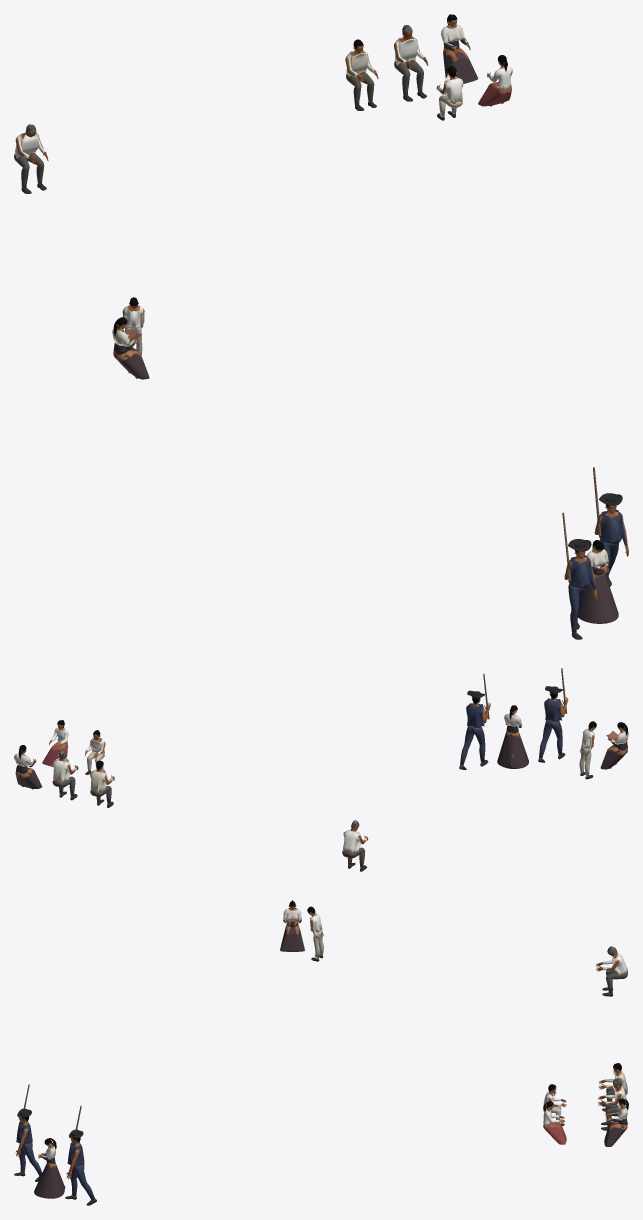
File: rizal-figures.glb
The picture shows the model from 3 angles, top to bottom: view 1: azimuth 30°, elevation 25°; view 2: azimuth 150°, elevation 25°; view 3: azimuth 270°, elevation 25°; orthographic projection. The views are drawn at different scales.
Visible parts, largest first — view 1: FIG_Guard_1, FIG_Teodora_Gate, FIG_Guard_2, FIG_Teodora_Dine, FIG_Francisco_Dine, FIG_Francisco_Desk, FIG_Teodora_Lamp, FIG_Paciano_Dine, FIG_Sister_Dine, FIG_Jose_Dine; view 2: FIG_Guard_2, FIG_Guard_1, FIG_Teodora_Gate, FIG_Francisco_Dine, FIG_Francisco_Desk, FIG_Teodora_Lamp, FIG_Teodora_Dine, FIG_Paciano_Dine, FIG_Jose_Lamp, FIG_Sister_Dine, FIG_Jose_Dine; view 3: FIG_Guard_2, FIG_Teodora_Gate, FIG_Guard_1, FIG_Teodora_Lamp, FIG_Francisco_Desk, FIG_Teodora_Dine, FIG_Sister_Dine, FIG_Francisco_Dine, FIG_Jose_Lamp, FIG_Paciano_Dine.
Part boxes in pixels (x1=…): FIG_Guard_1: x1=562, y1=512, x2=597, y2=639; FIG_Teodora_Gate: x1=578, y1=540, x2=618, y2=623; FIG_Guard_2: x1=593, y1=467, x2=628, y2=595; FIG_Teodora_Dine: x1=441, y1=14, x2=478, y2=83; FIG_Francisco_Dine: x1=394, y1=25, x2=428, y2=101; FIG_Francisco_Desk: x1=14, y1=124, x2=48, y2=193; FIG_Teodora_Lamp: x1=112, y1=317, x2=149, y2=379; FIG_Paciano_Dine: x1=345, y1=39, x2=378, y2=110; FIG_Sister_Dine: x1=478, y1=55, x2=512, y2=106; FIG_Jose_Dine: x1=436, y1=66, x2=463, y2=120; FIG_Guard_2: x1=459, y1=673, x2=490, y2=769; FIG_Guard_1: x1=538, y1=668, x2=568, y2=762; FIG_Teodora_Gate: x1=497, y1=705, x2=528, y2=768; FIG_Francisco_Dine: x1=52, y1=749, x2=78, y2=800; FIG_Francisco_Desk: x1=342, y1=820, x2=368, y2=871; FIG_Teodora_Lamp: x1=600, y1=722, x2=628, y2=769; FIG_Teodora_Dine: x1=14, y1=745, x2=41, y2=789; FIG_Paciano_Dine: x1=90, y1=760, x2=114, y2=807; FIG_Jose_Lamp: x1=579, y1=721, x2=596, y2=779; FIG_Sister_Dine: x1=42, y1=720, x2=68, y2=766; FIG_Jose_Dine: x1=85, y1=730, x2=105, y2=774; FIG_Guard_2: x1=65, y1=1105, x2=96, y2=1205; FIG_Teodora_Gate: x1=34, y1=1138, x2=65, y2=1198; FIG_Guard_1: x1=14, y1=1084, x2=42, y2=1181; FIG_Teodora_Lamp: x1=280, y1=900, x2=304, y2=951; FIG_Francisco_Desk: x1=596, y1=946, x2=627, y2=996; FIG_Teodora_Dine: x1=604, y1=1098, x2=628, y2=1146; FIG_Sister_Dine: x1=543, y1=1101, x2=566, y2=1144; FIG_Francisco_Dine: x1=598, y1=1078, x2=626, y2=1130; FIG_Jose_Lamp: x1=307, y1=906, x2=323, y2=961; FIG_Paciano_Dine: x1=598, y1=1063, x2=627, y2=1111.
Size of the model in its own units: 11.32 by 4.76 by 14.3.
25 materials, 11 textured.
